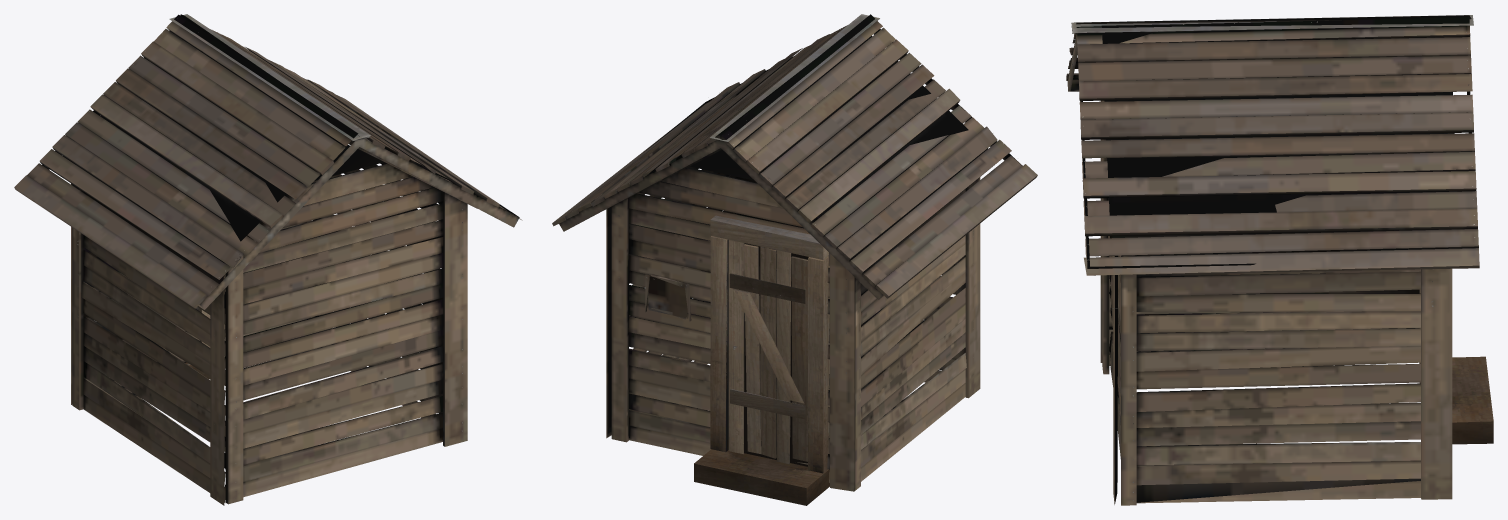
The model's file is glass4.fbx.
3 renders of one model, left to right at view 1: azimuth 30°, elevation 25°; view 2: azimuth 150°, elevation 25°; view 3: azimuth 270°, elevation 25°, orthographic. The views are drawn at different scales.
Parts seen in each view (by area): view 1: glass4; view 2: glass4; view 3: glass4.
Part boxes in pixels (left/top/right/bottom): glass4: left=14, top=14, right=522, bottom=505; glass4: left=552, top=14, right=1037, bottom=505; glass4: left=1066, top=15, right=1493, bottom=505.
Size of the model in its own units: 11.56 by 11.18 by 10.36.
